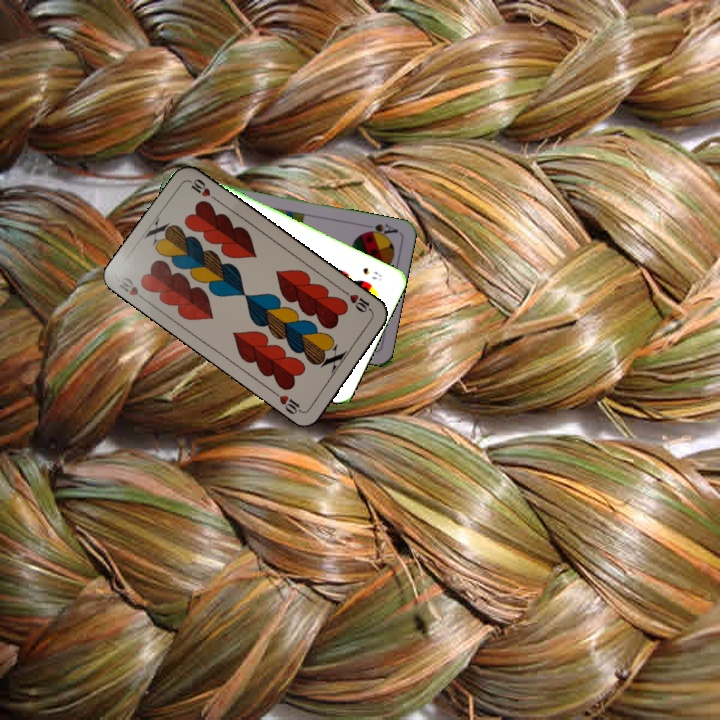H10: (114, 272, 150, 305), (340, 287, 375, 315)
S8: (359, 264, 384, 283)
SA: (359, 220, 401, 240)
